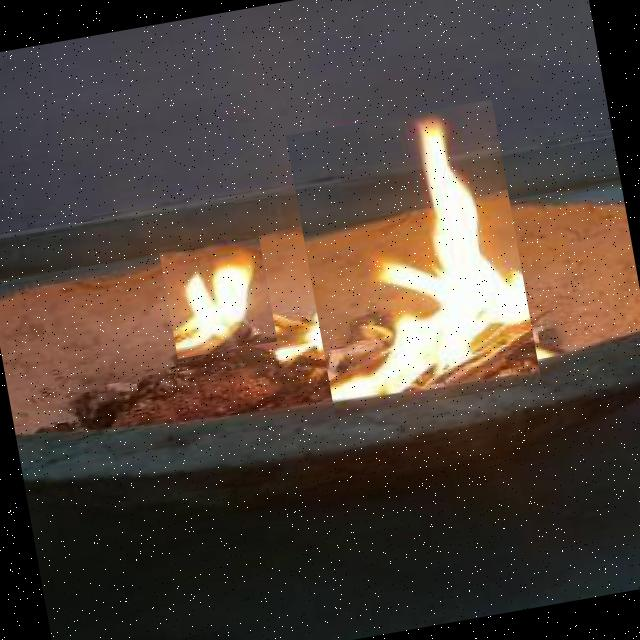fire: (285, 99, 541, 418), (158, 230, 277, 358)
